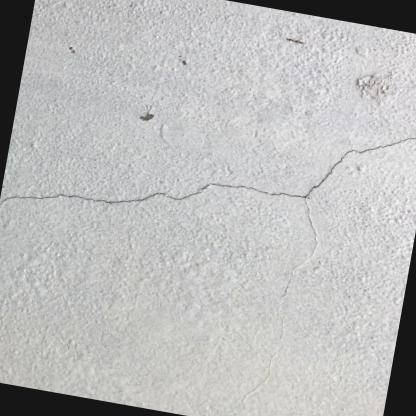crack: (0, 134, 416, 205)
